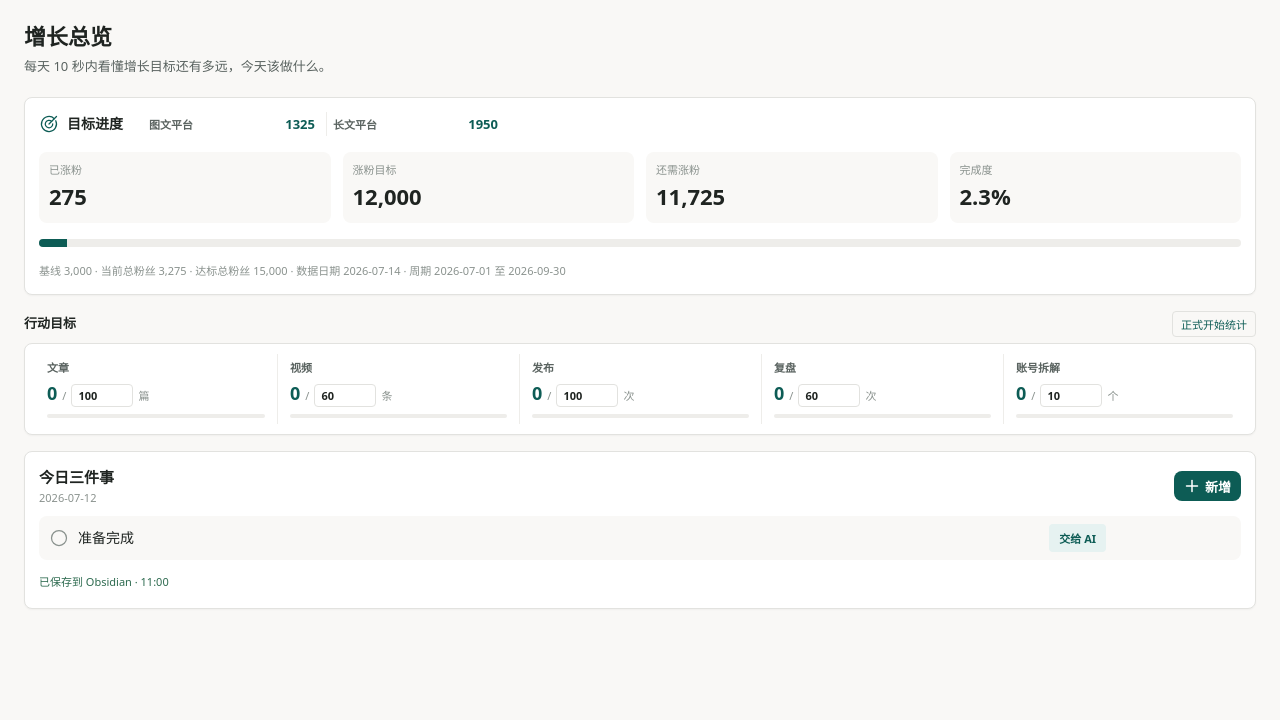
Test: 今日三件事双向同步 › 保存失败时明确报错，不把改动伪装成已保存
Expected: the text "准备完成" is shown, top-left (78, 528), bottom-right (134, 547)
What coordinates should you click on to do the following:
click the button named "将“准备完成”标记为完成"
I would click on:
 (59, 538)
Its box is top-left (48, 528), bottom-right (70, 548).
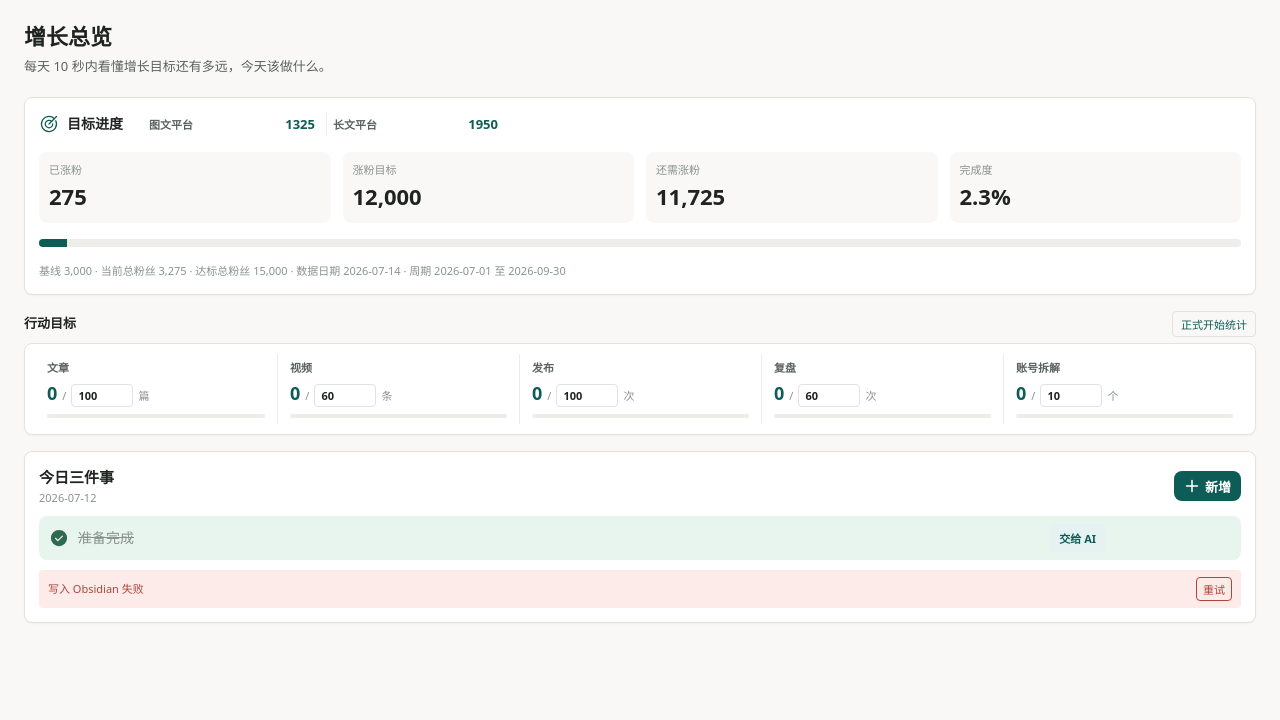
Expected: the message shows "写入 Obsidian 失败", top-left (48, 581), bottom-right (144, 596)
Expected: the message no longer shows "已保存", top-left (39, 570), bottom-right (1241, 608)
Expected: the button "重试" is shown, top-left (1196, 577), bottom-right (1232, 601)
